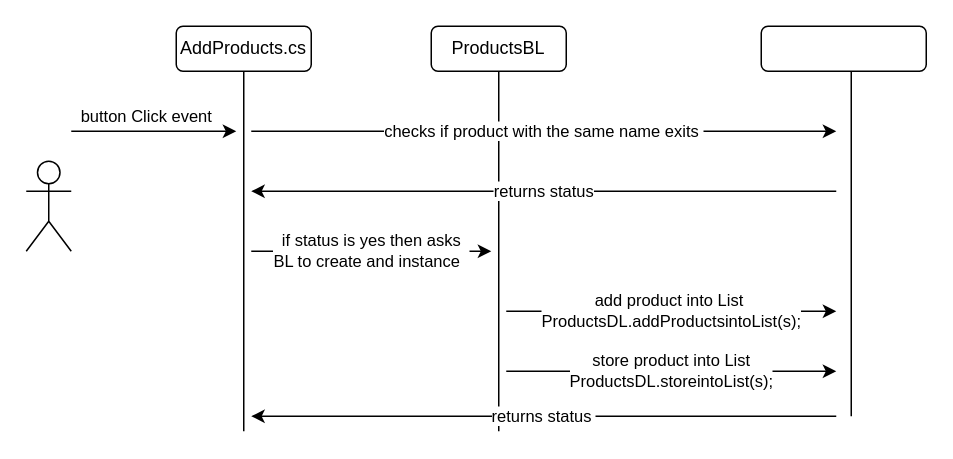
Image size: 953x459. Some labels were removed from this diagram. Each missing label, with the centre of its shape:
"Actor" belongs at pixel 48 205.
"ProductsDL" belongs at pixel 843 48.
